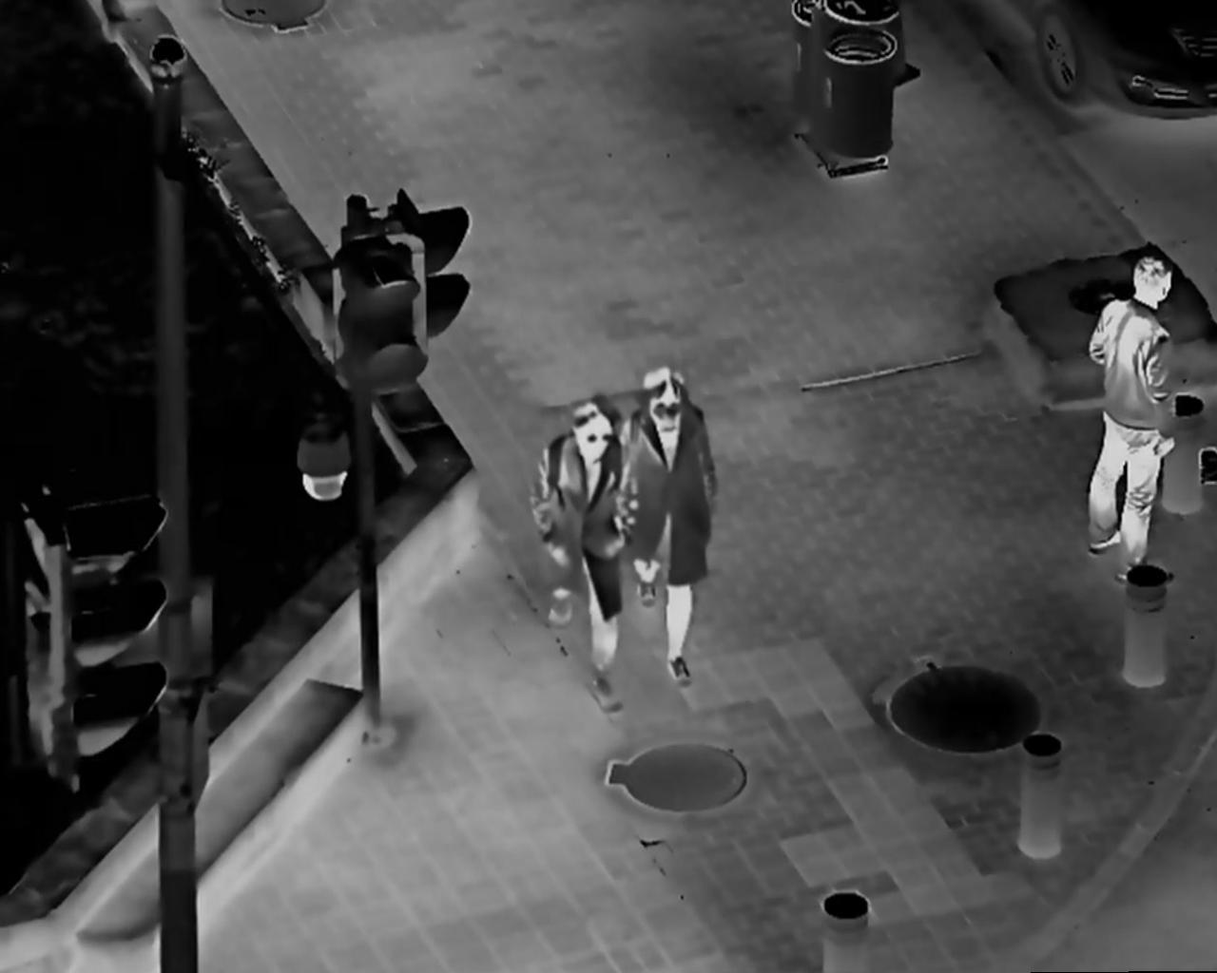person: (521, 394, 642, 726), (1077, 248, 1187, 596), (624, 362, 716, 695)
